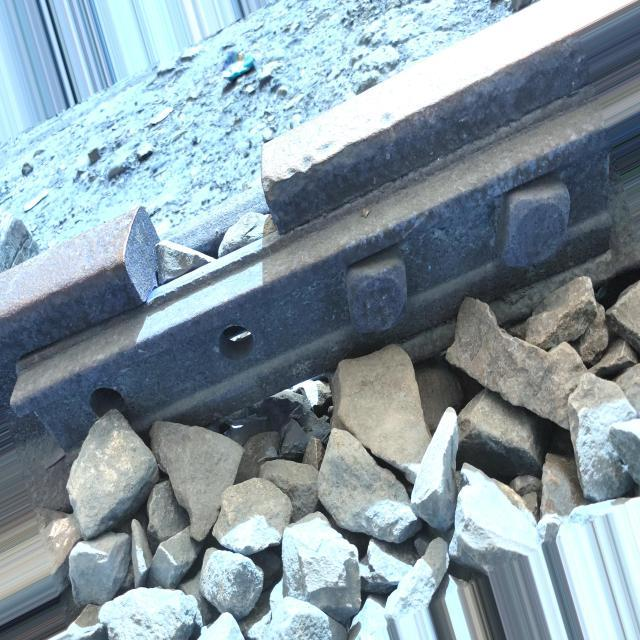Defective Joint: (10, 100, 614, 450)
